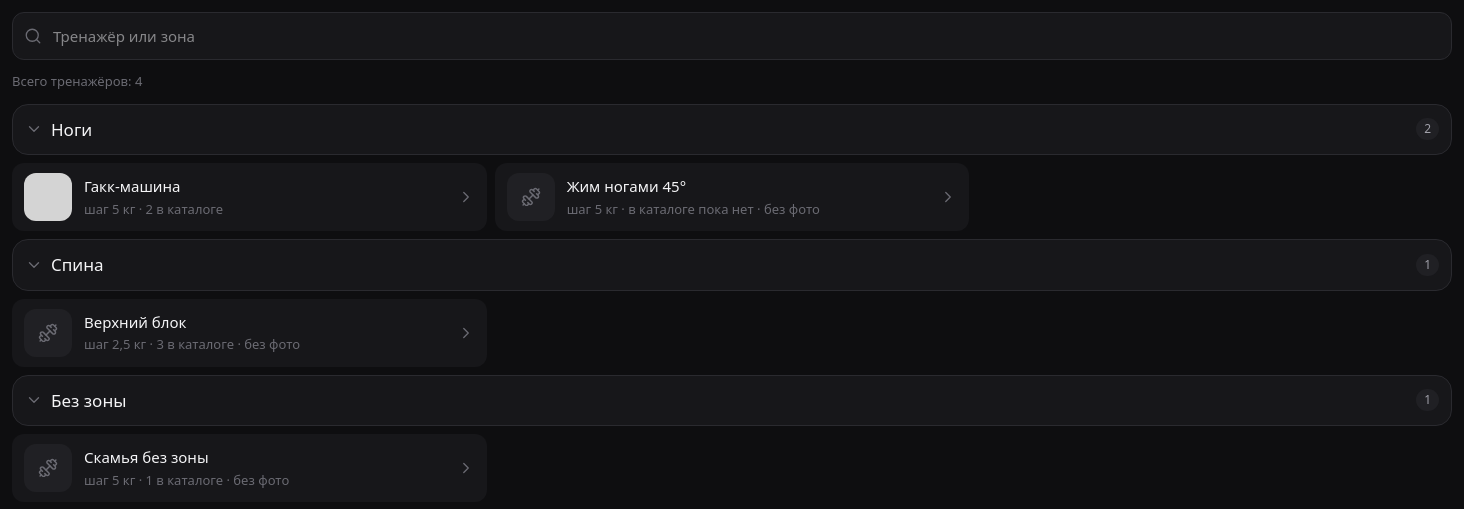
Test: зона сворачивается и раскрывается
What coordinates should you click on to do the following:
click the button "Ноги 2"
I would click on:
 (72, 129)
Its box is [12,104,1452,155].
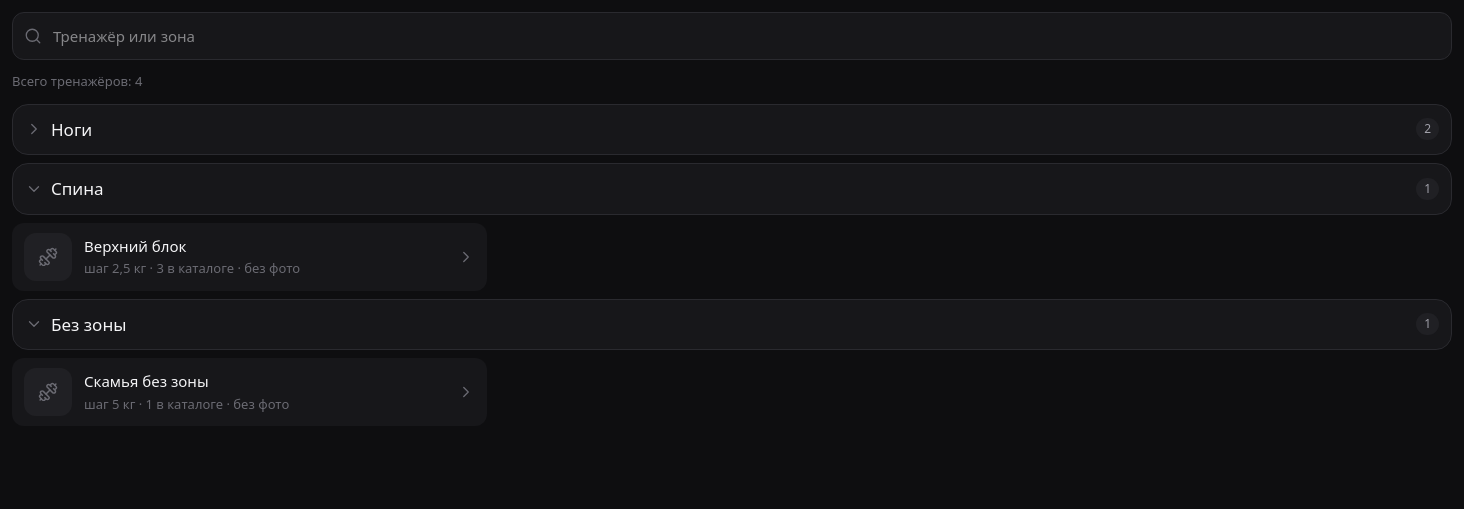
Expected: the button "Гакк-машина" is gone
What coordinates should you click on to do the following:
click the button "Ноги 2"
I would click on:
 (72, 129)
Its box is [12,104,1452,155].
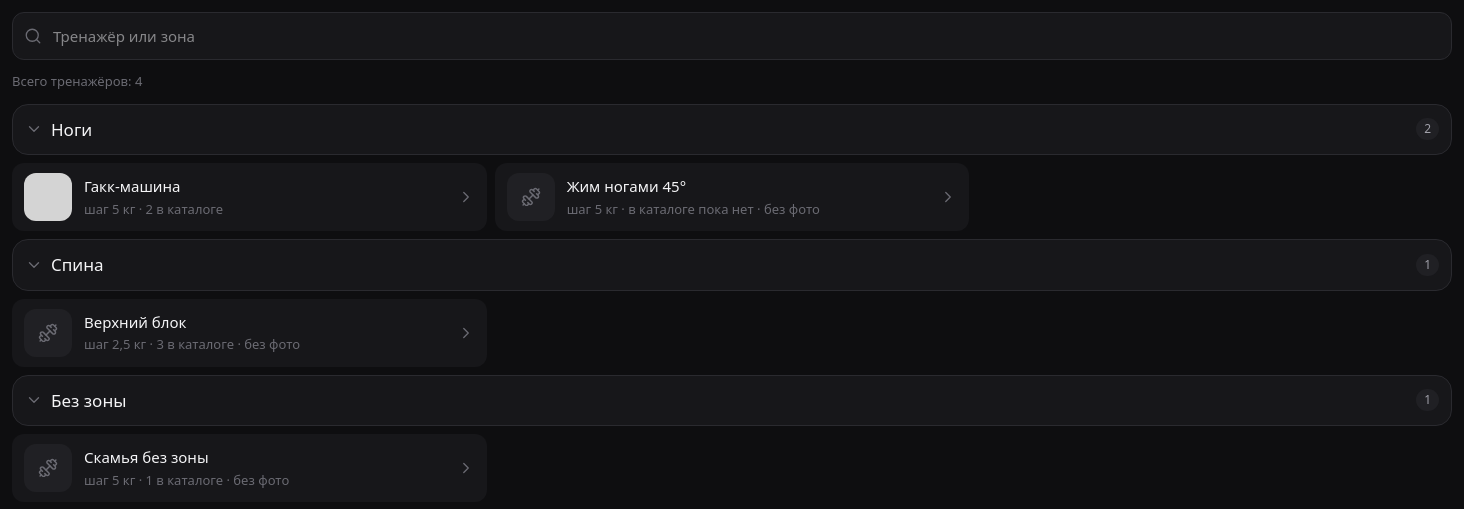
Expected: the text "Гакк-машина" is shown, [84,176,180,196]
